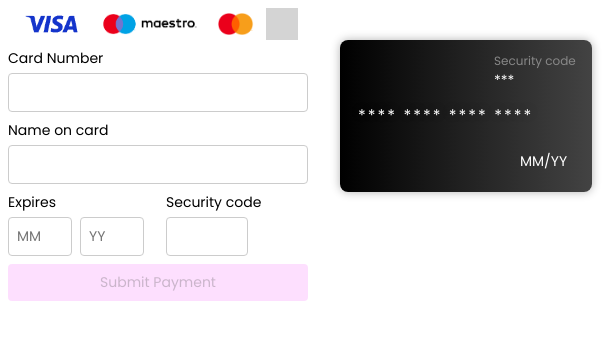
Scenario: CreditCardForm › Credit card form fields › Expiry date fields › should not allow an expiry month less than 2 characters
This screenshot has width=614, height=358.
Type "0" into the field named "Expiry month field".
click(40, 236); type("0")  # box top-left (8, 217), bottom-right (72, 256)
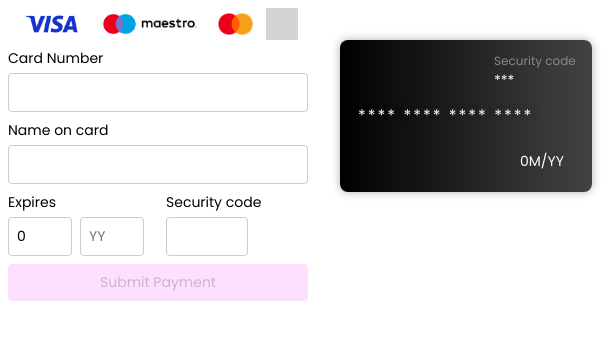
Leave the field named "Expiry month field", box top-left (8, 217), bottom-right (72, 256)
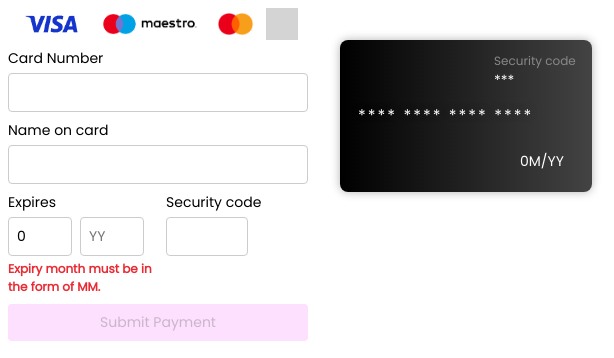
Now the text "Expiry month must be in the form of MM." is shown, box top-left (8, 260), bottom-right (158, 296)
